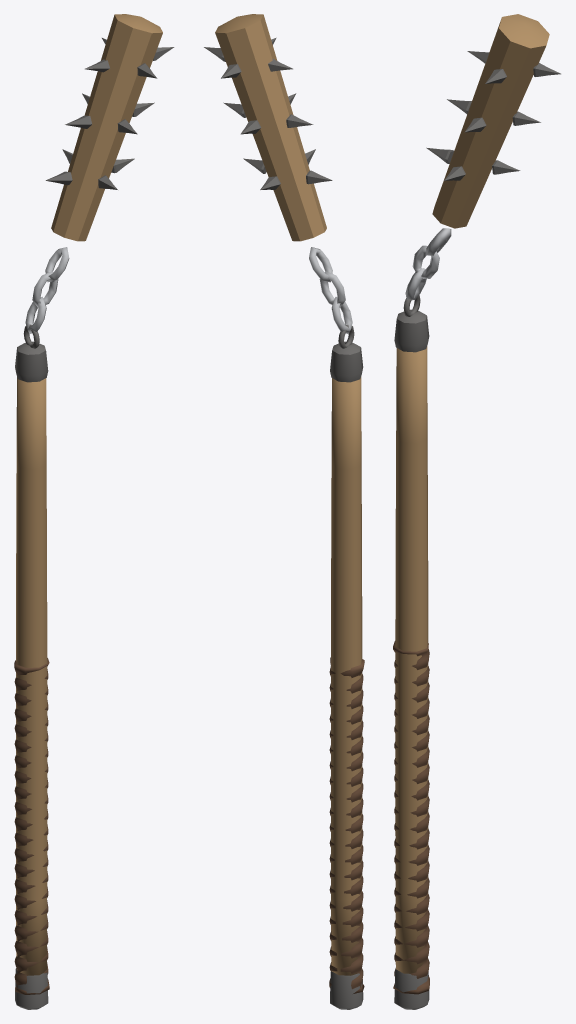
Rendered from heavy-flail.glb.
3 renders of one model, left to right at view 1: azimuth 30°, elevation 25°; view 2: azimuth 150°, elevation 25°; view 3: azimuth 330°, elevation 25°, orthographic. The views are drawn at different scales.
Visible parts, largest first — view 1: heavy-flail; view 2: heavy-flail; view 3: heavy-flail.
Boxes of the visible parts, bbox=[...] form: heavy-flail: bbox=[14, 14, 174, 1009]; heavy-flail: bbox=[204, 14, 364, 1009]; heavy-flail: bbox=[393, 14, 560, 1009].
Size of the model in its own units: 0.4931 by 2.84 by 0.3.
